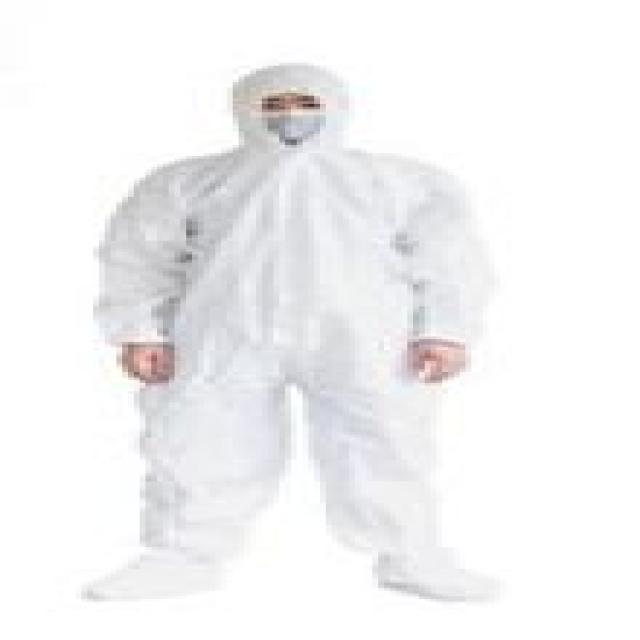Mask: (233, 104, 343, 137)
